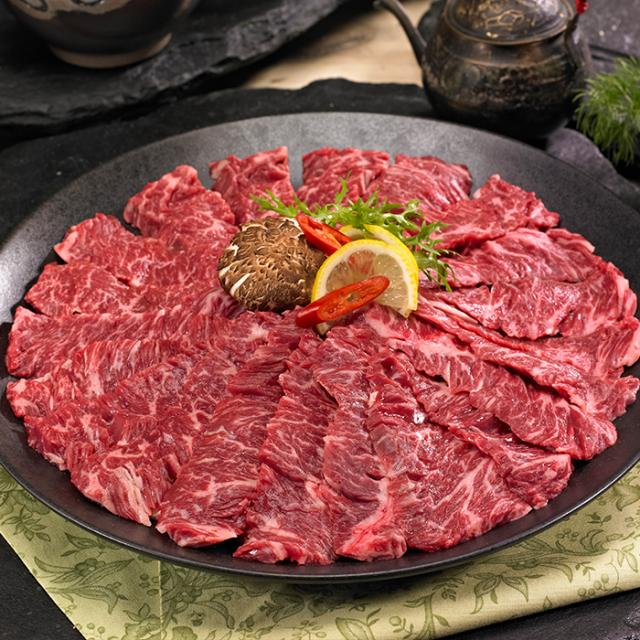beef: (137, 344, 463, 514)
